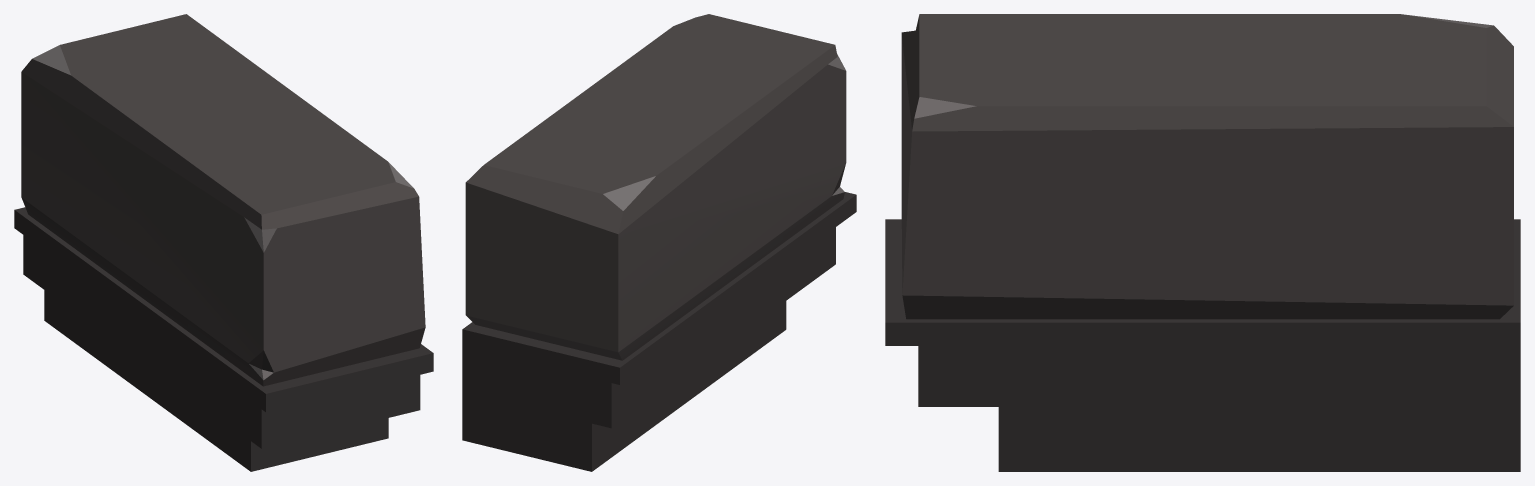
File: Pillar_Top_Stones_Small_01.glb
The picture shows the model from 3 angles, left to right: view 1: azimuth 30°, elevation 25°; view 2: azimuth 150°, elevation 25°; view 3: azimuth 270°, elevation 25°; orthographic projection. The views are drawn at different scales.
Visible parts, largest first — view 1: Pillar_Top_Stones_Small_01; view 2: Pillar_Top_Stones_Small_01; view 3: Pillar_Top_Stones_Small_01.
Part boxes in pixels (bbox=[...]): Pillar_Top_Stones_Small_01: bbox=[14, 14, 433, 471]; Pillar_Top_Stones_Small_01: bbox=[462, 14, 856, 471]; Pillar_Top_Stones_Small_01: bbox=[885, 14, 1520, 471].
Size of what is drawn, in the model's own units: 1 by 1.63 by 2.6.
Materials: 1 (1 with a texture image).
